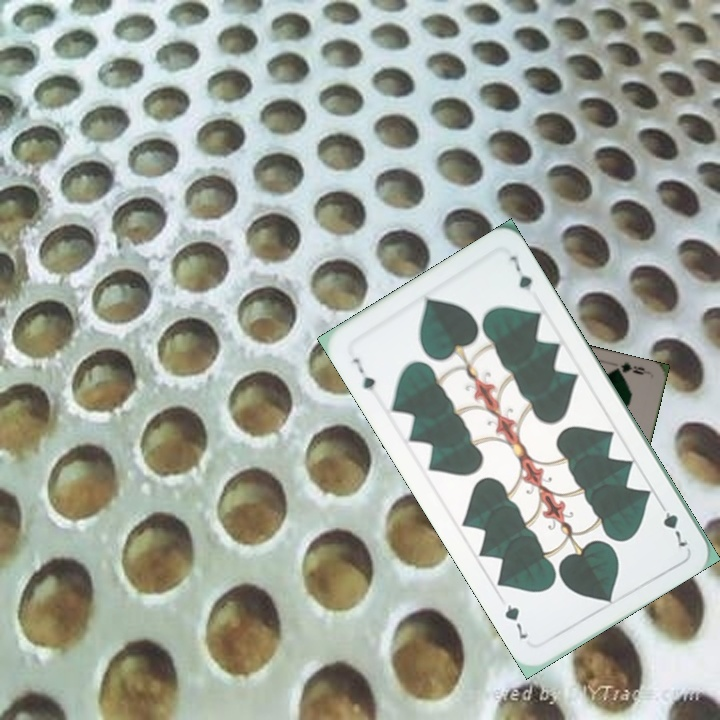G7: (654, 496, 690, 552), (348, 353, 378, 394)
G9: (610, 358, 651, 377)
